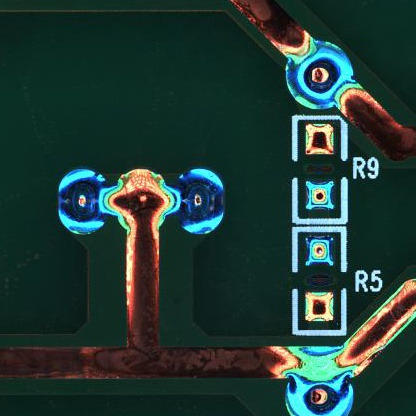spot: (285, 41, 353, 110), (177, 166, 227, 236), (284, 366, 354, 416), (59, 167, 104, 238)
